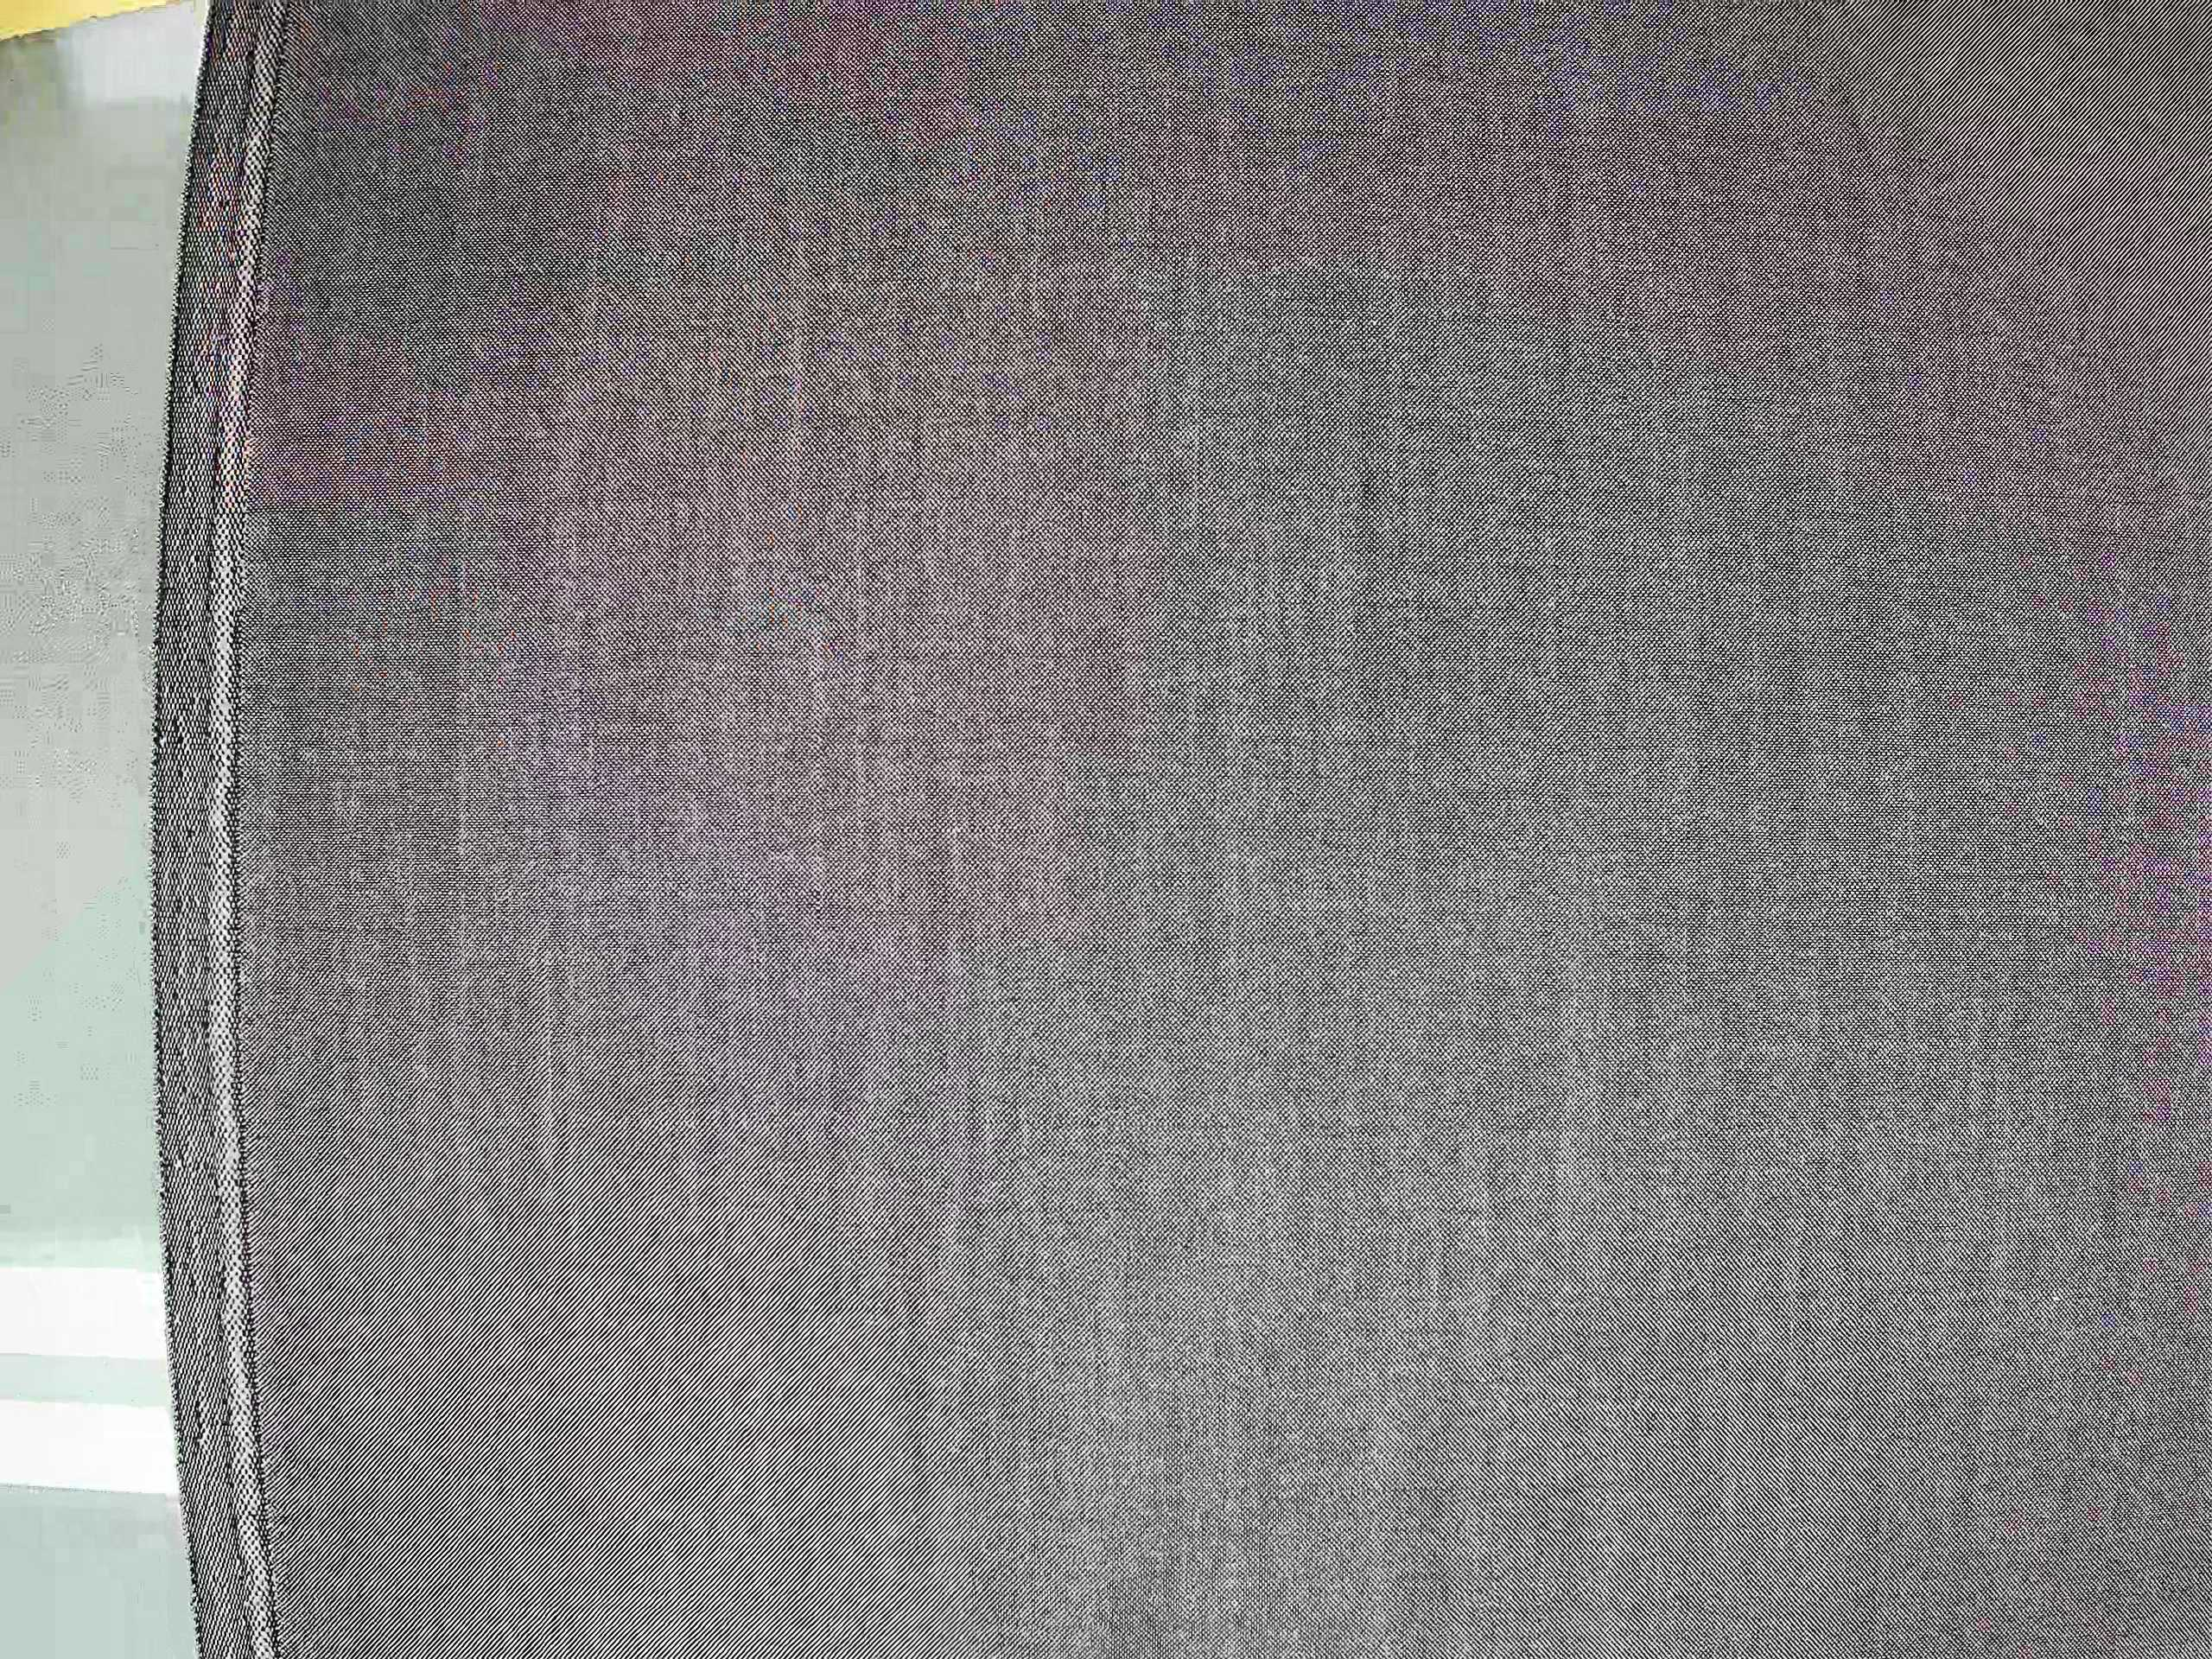hanging-warp: (448, 498, 472, 972), (801, 596, 829, 936), (538, 965, 559, 1155)
